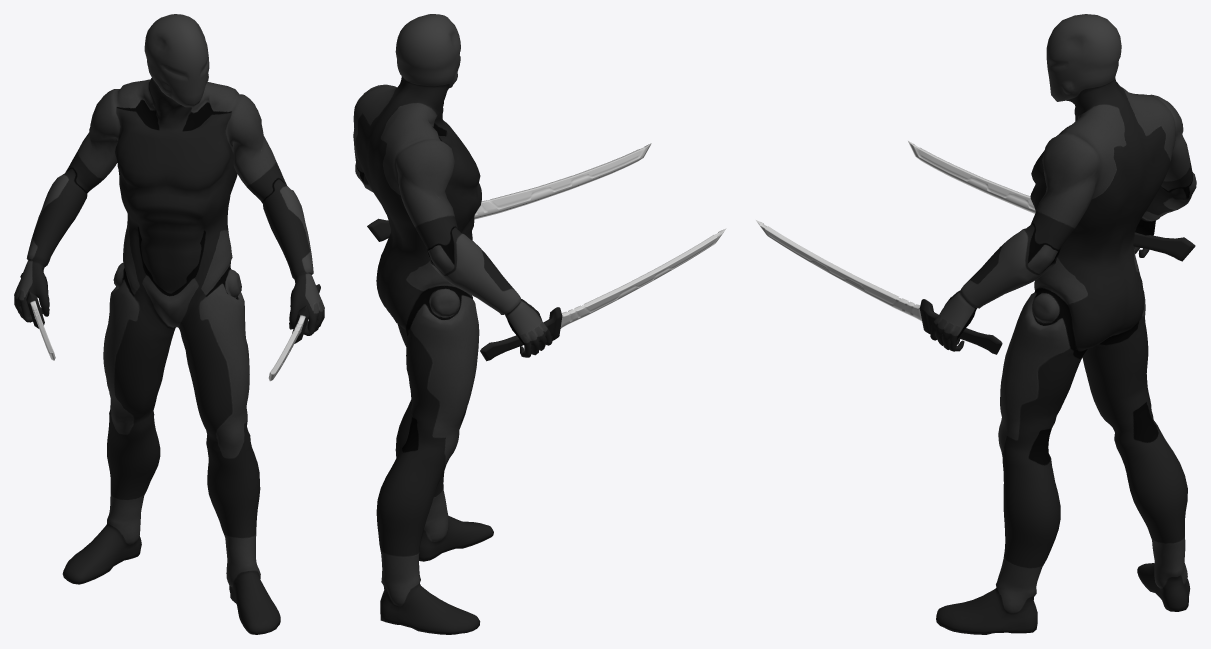
3 views of the same model, side by side, from view 1: azimuth 30°, elevation 25°; view 2: azimuth 150°, elevation 25°; view 3: azimuth 270°, elevation 25° (orthographic). The views are drawn at different scales.
Visible parts, largest first — view 1: Cyborg_Ninja_Killer, Sword_l, Sword_l001; view 2: Cyborg_Ninja_Killer, Sword_l001, Sword_l; view 3: Cyborg_Ninja_Killer, Sword_l, Sword_l001.
Boxes of the visible parts, x1,y1,x2,y2 form: Cyborg_Ninja_Killer: [14, 14, 324, 634]; Sword_l: [268, 284, 320, 381]; Sword_l001: [20, 273, 55, 360]; Cyborg_Ninja_Killer: [353, 14, 552, 634]; Sword_l001: [480, 228, 726, 361]; Sword_l: [367, 143, 651, 241]; Cyborg_Ninja_Killer: [930, 14, 1196, 634]; Sword_l: [756, 220, 1002, 354]; Sword_l001: [908, 141, 1195, 261].
Bounding box in the file's own units: 105 × 182 × 123.
Materials: 2 (2 with a texture image).
